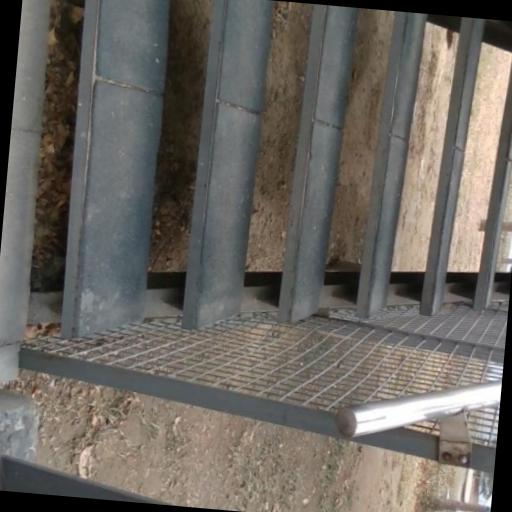stairs: (30, 0, 511, 336)
